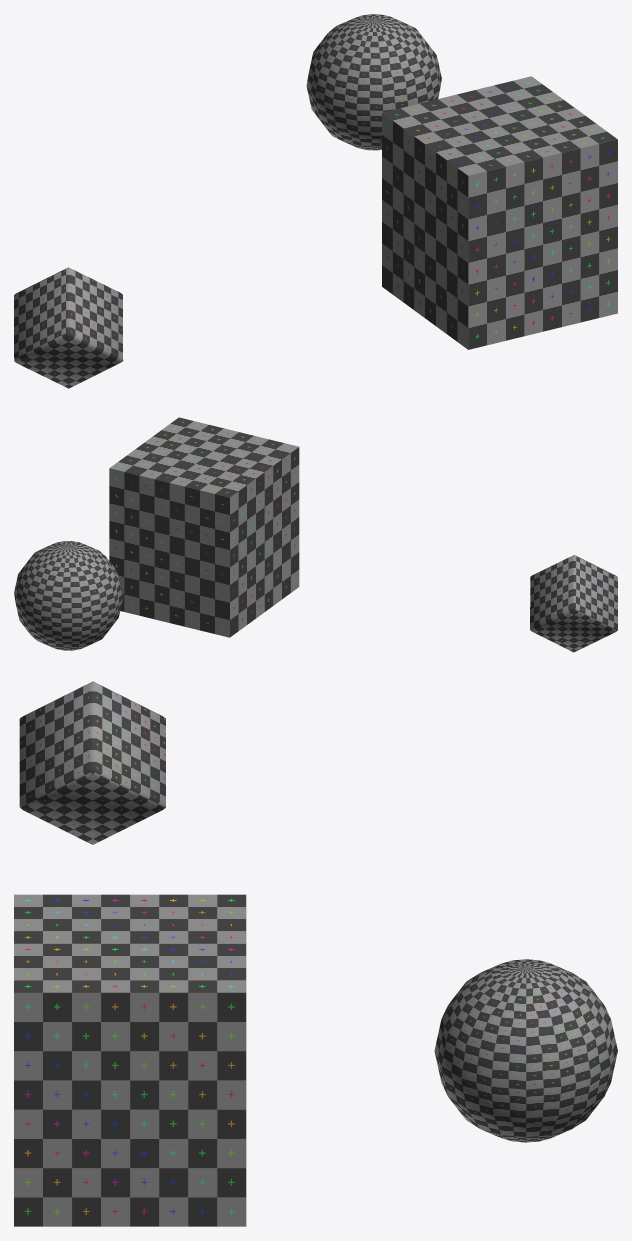
The model's file is test-world.glb.
The picture shows the model from 3 angles, top to bottom: view 1: azimuth 30°, elevation 25°; view 2: azimuth 150°, elevation 25°; view 3: azimuth 270°, elevation 25°; orthographic projection. The views are drawn at different scales.
Parts seen in each view (by area): view 1: Wall, Actor, Target; view 2: Wall, Actor, Target; view 3: Wall, Actor, Target.
Part boxes in pixels (x1,y1,x2,y2): Wall: [382, 76, 617, 349]; Actor: [306, 14, 441, 150]; Target: [14, 267, 123, 388]; Wall: [109, 417, 299, 637]; Actor: [14, 541, 122, 650]; Target: [530, 555, 617, 652]; Wall: [14, 894, 246, 1226]; Actor: [434, 959, 617, 1142]; Target: [19, 681, 165, 844].
Size of what is drawn, in the model's own units: 3.49 by 1 by 2.34.
1 material, 1 textured.
